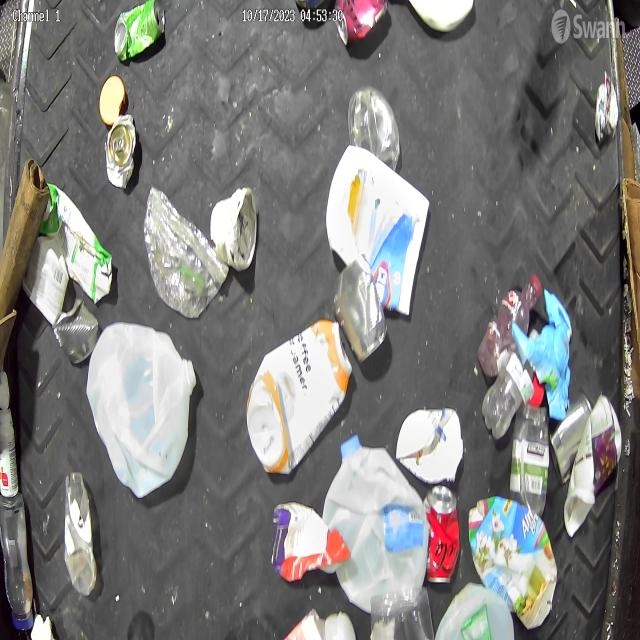can: (335, 258, 389, 364), (549, 392, 593, 486), (425, 481, 460, 587), (112, 0, 162, 64), (52, 298, 99, 366), (337, 0, 388, 49), (107, 115, 139, 192), (594, 70, 618, 146)
milk_jug: (87, 320, 195, 500), (324, 432, 428, 613), (435, 582, 515, 640)
non_white_jug: (468, 495, 559, 631), (40, 182, 113, 304)
plastic_bottle: (481, 327, 540, 442), (0, 492, 37, 634), (512, 396, 550, 517)
